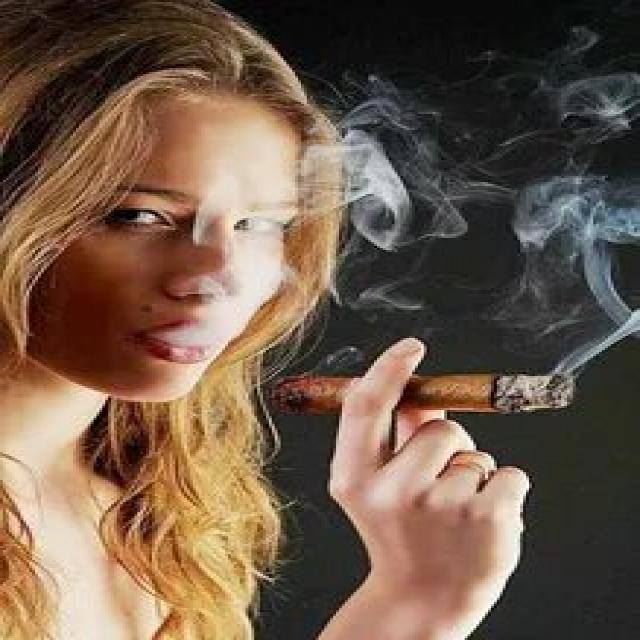cigarette: (263, 364, 602, 436)
